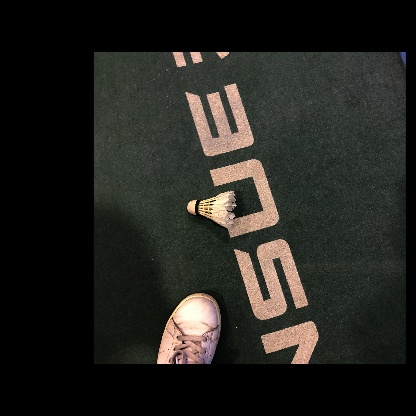ball_single: (187, 191, 236, 229)
